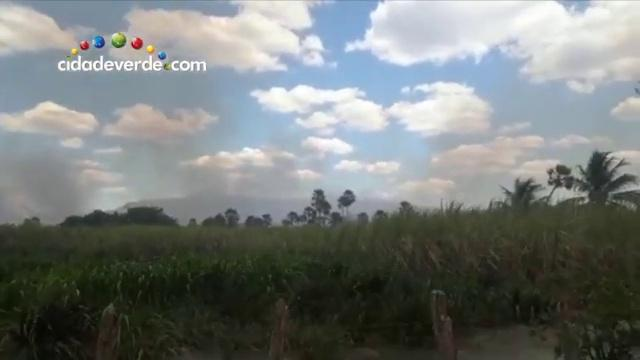smoke: (25, 159, 83, 218)
